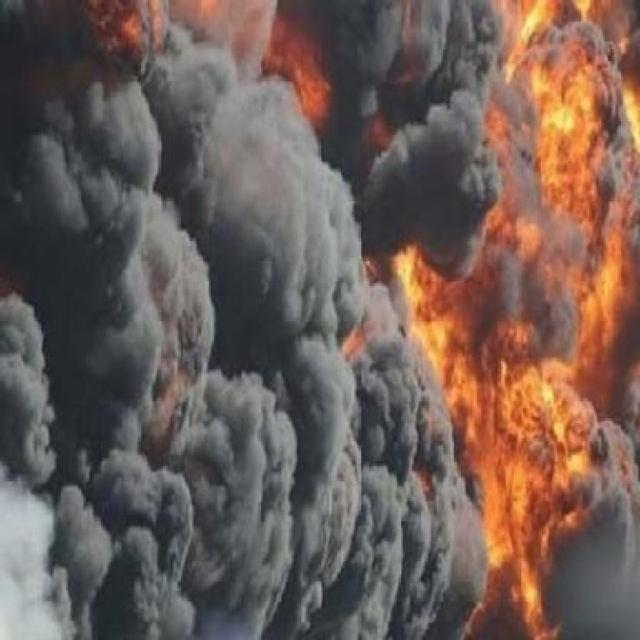Fire: (408, 263, 638, 598), (483, 15, 639, 234)
Smoke: (2, 4, 476, 640)
